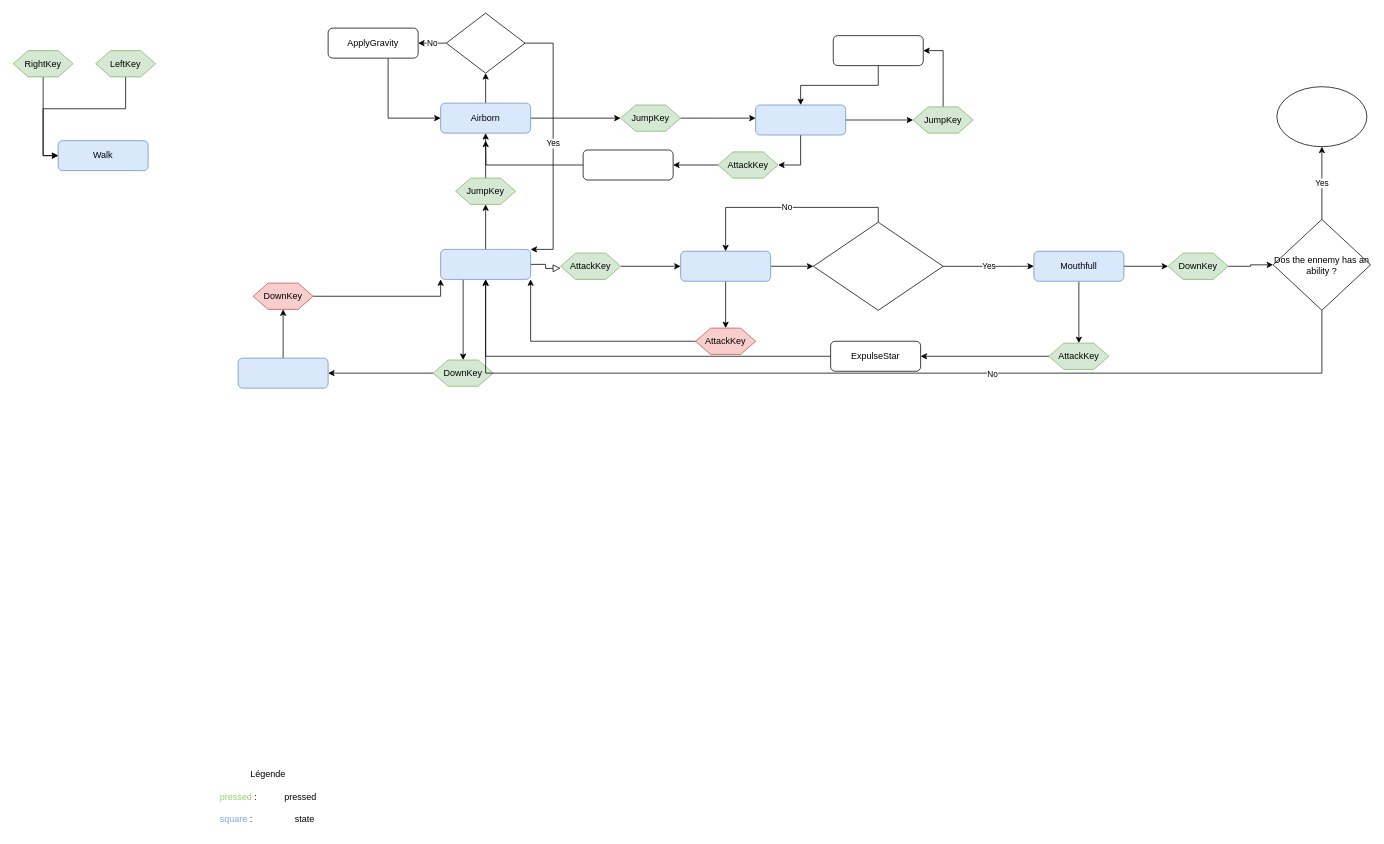
This 1384x844 diagram has some shape labels left out. Here are the shapes that lost their labels. From the top down, the centre of each, then its label:
At (485,42): "There is a floor below ?".
At (877,50): "FloatJump".
At (800,119): "Float".
At (1321,116): "AbilityKirby".
At (627,164): "ExpulseAir".
At (485,264): "Idle".
At (725,265): "Inhale".
At (878,265): "Does an ennemy as been inhaled ?".
At (282,372): "Crounch".
